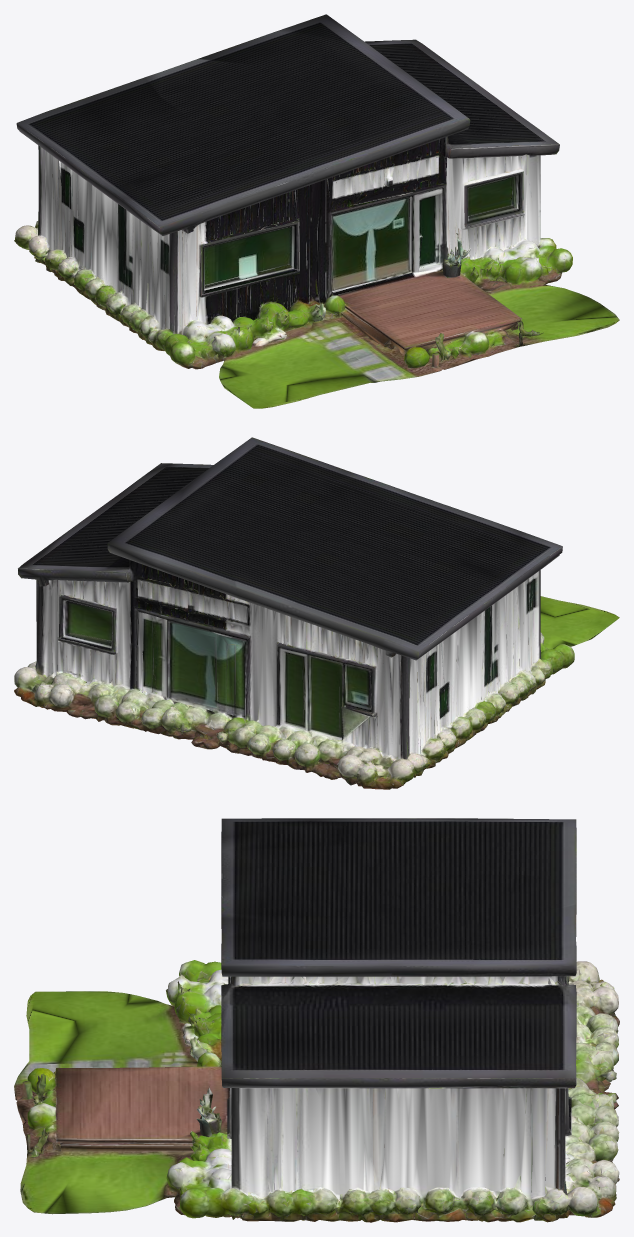
Rendered from stay24w.glb.
3 renders of one model, top to bottom at view 1: azimuth 30°, elevation 25°; view 2: azimuth 150°, elevation 25°; view 3: azimuth 270°, elevation 25°, orthographic. The views are drawn at different scales.
Parts seen in each view (by area): view 1: Mesh_0; view 2: Mesh_0; view 3: Mesh_0.
Part boxes in pixels (x1,y1,x2,y2): Mesh_0: [14, 14, 619, 408]; Mesh_0: [14, 437, 619, 789]; Mesh_0: [14, 818, 619, 1222].
Bounding box in the file's own units: 1.79 × 0.7261 × 1.9.
Materials: 1 (1 with a texture image).
